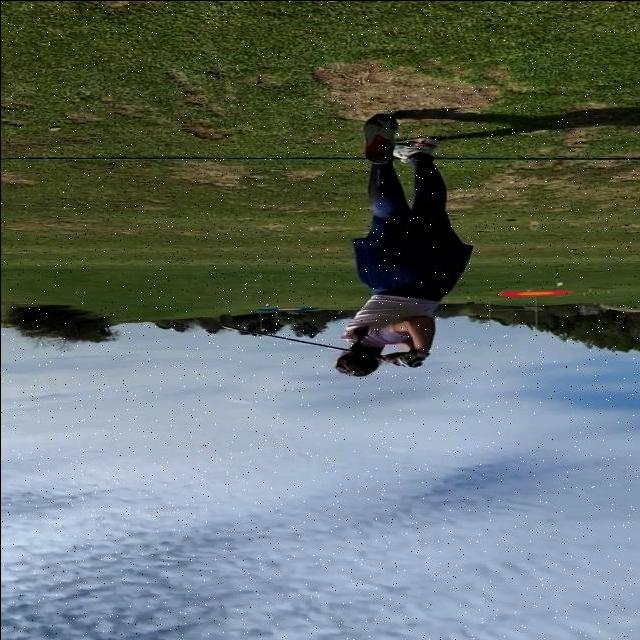ClubHandle: (216, 311, 423, 365)
ClubHead: (217, 313, 233, 325)
